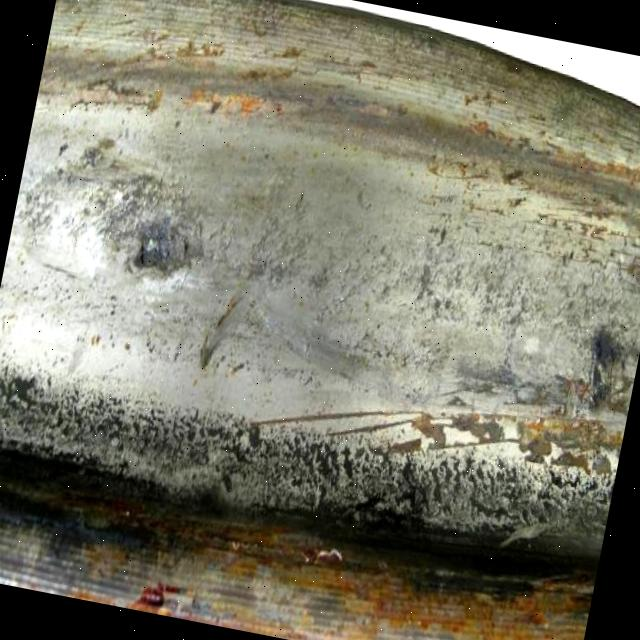Contact_Fatigue_Cracks: (426, 217, 640, 295), (99, 190, 211, 294)
